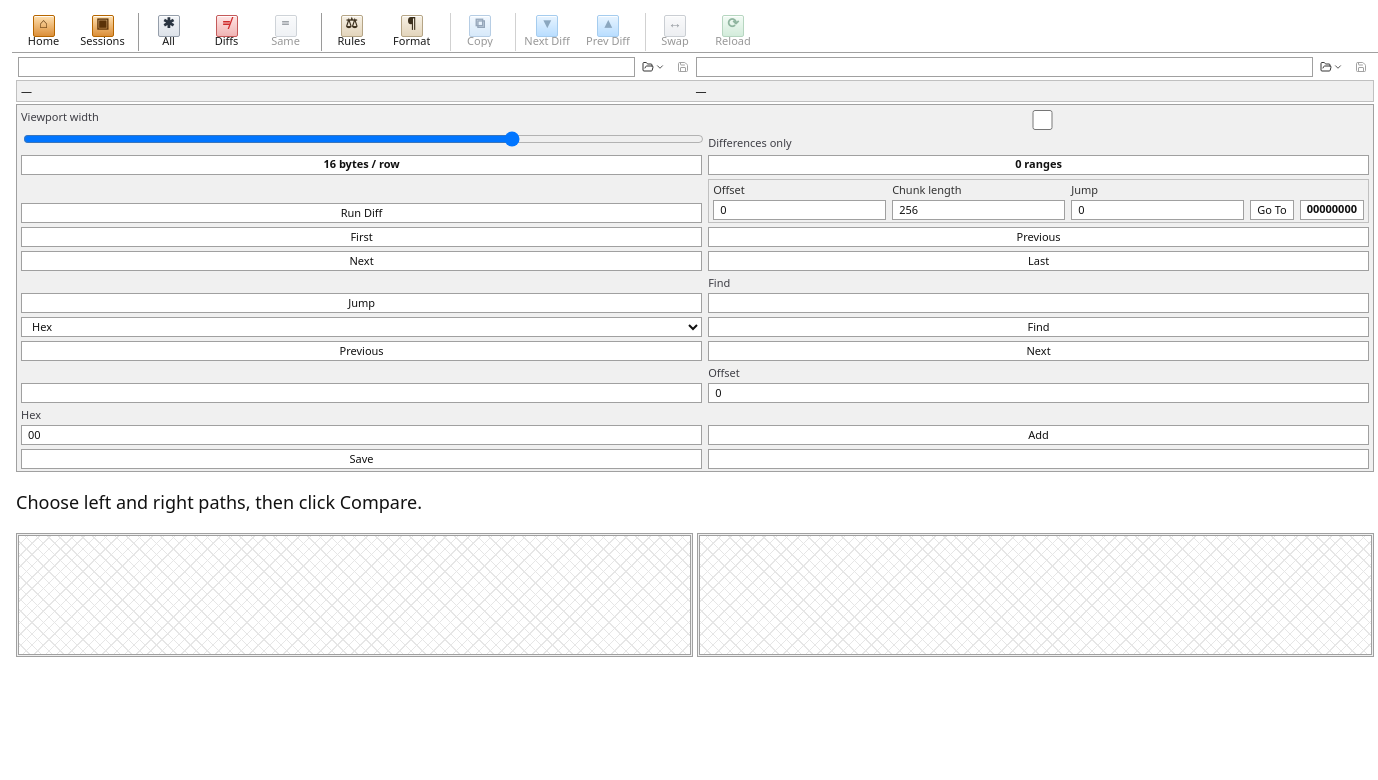
Test: HexCompareView › runs a hex comparison request and renders returned byte windows
Step 1. Type "C:/bin/left.bin" into the field with test id "hex-left-path" → (326, 66), box x1=18 y1=56 x2=635 y2=76
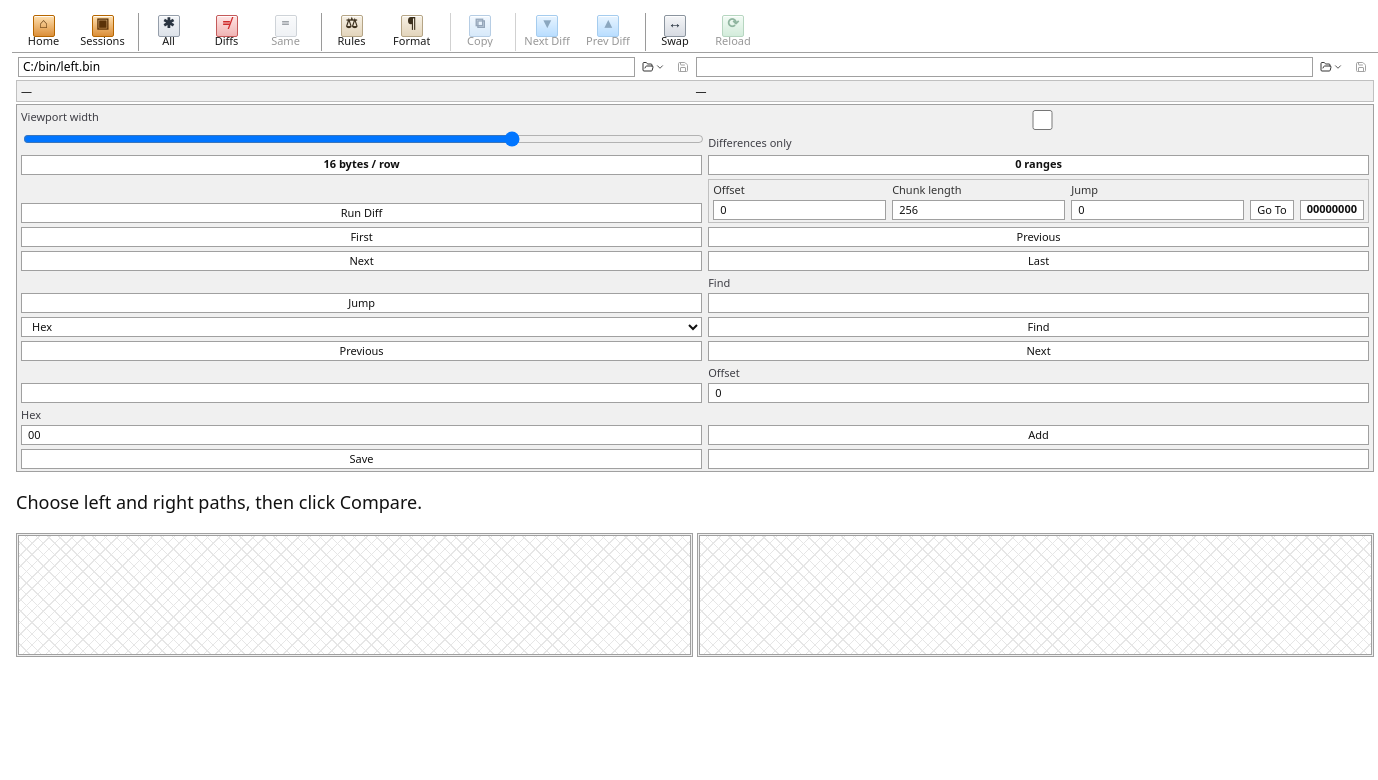
Step 2. Type "C:/bin/right.bin" into the field with test id "hex-right-path" → (1004, 66), box x1=696 y1=56 x2=1313 y2=76
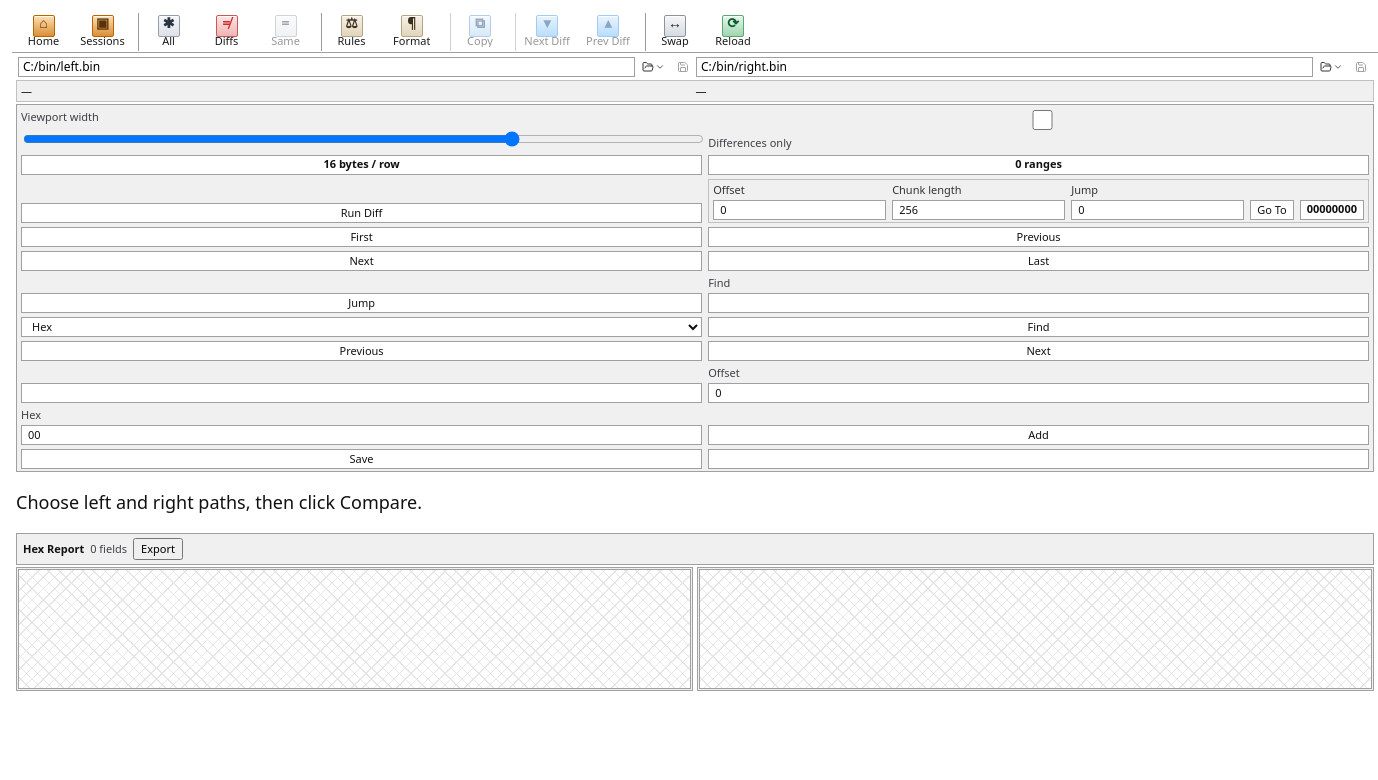
Step 3. Click the button with test id "run-hex-compare" → (362, 212), box x1=21 y1=202 x2=702 y2=222
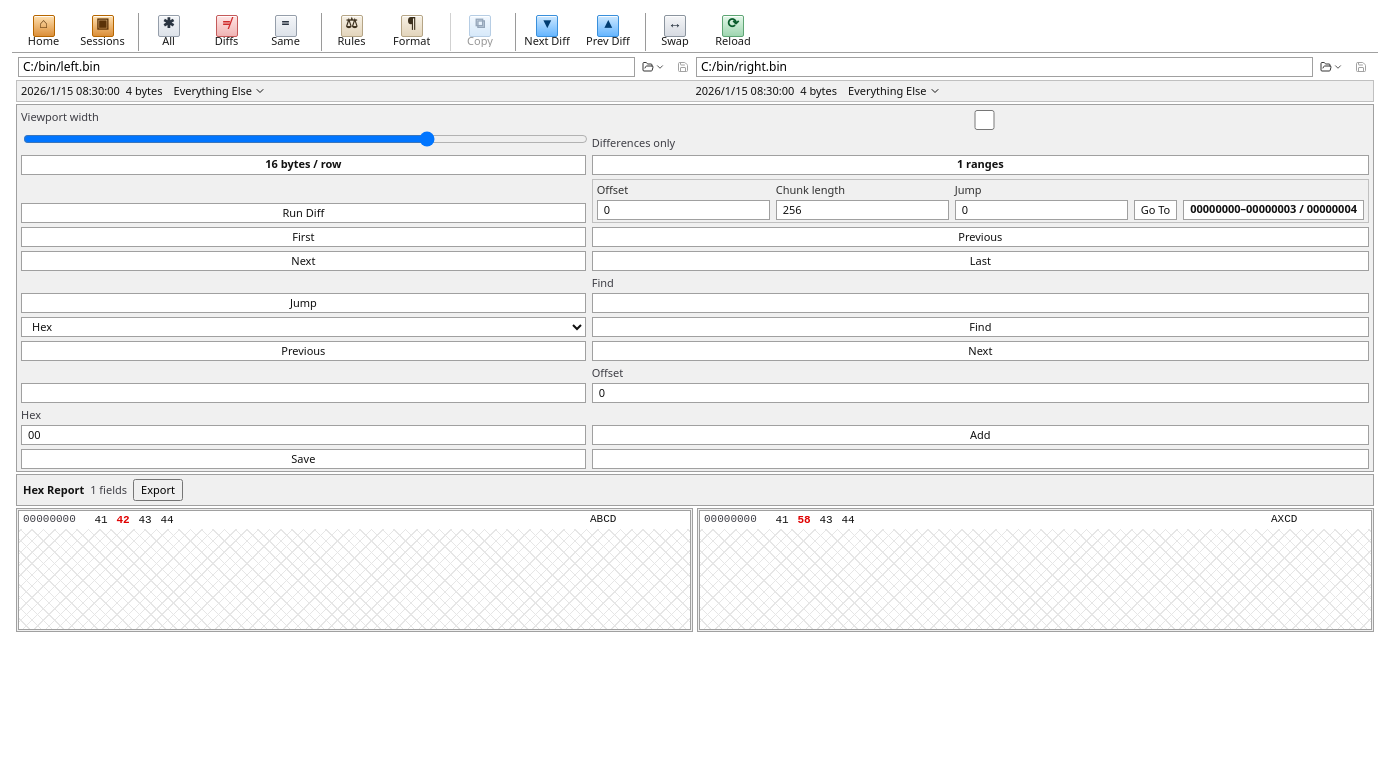
Check: the button with test id "left-hex-byte-diff-00000001" reads "42", box x1=113 y1=510 x2=133 y2=528
Check: the button with test id "right-hex-byte-diff-00000001" reads "58", box x1=794 y1=510 x2=814 y2=528
